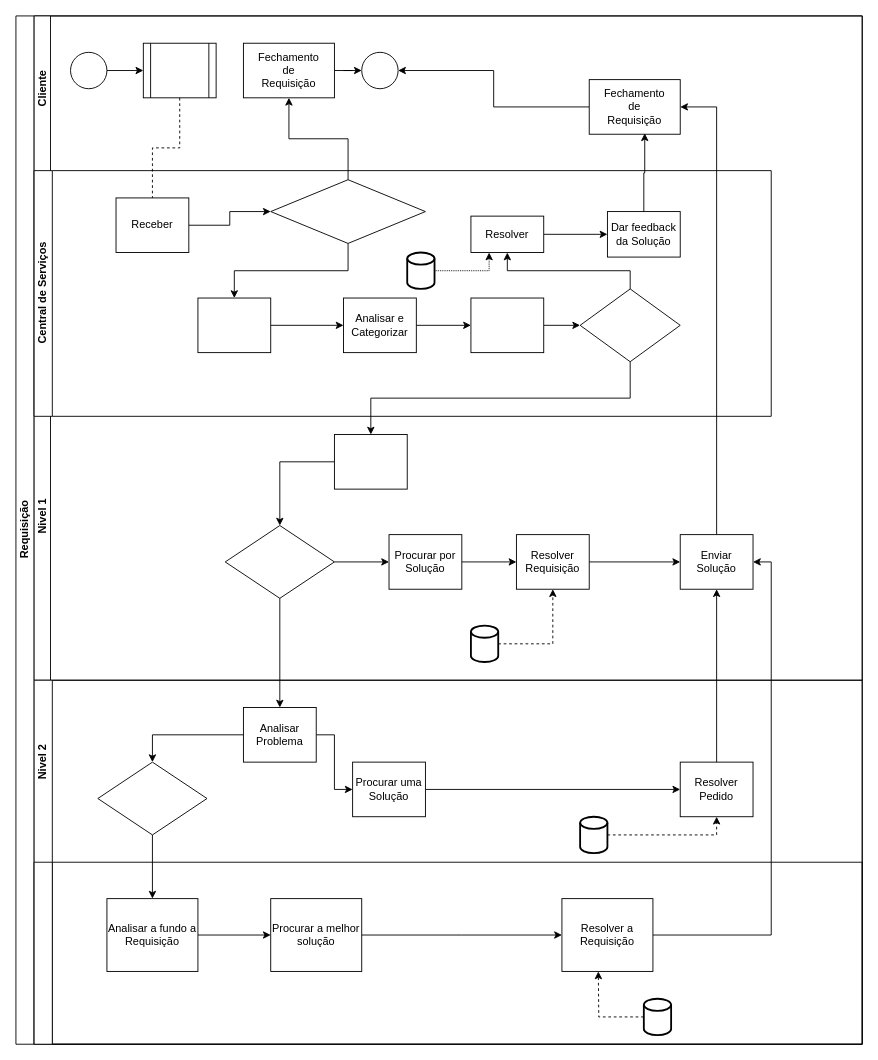
Image size: 878x1060. Some labels were removed from this diagram. The shapes that lost their labels are listed below. From the top down, each one's centre as x and y in pixels, then its label:
point 179,70: Abir uma Requisição
point 347,211: É uma Requisição?
point 234,325: Registrar Requisição
point 507,325: Definir Prioridade
point 629,325: Consegue Resolver
point 370,461: Analisar e Diagnosticar
point 279,561: Consegue Solucionar?
point 152,798: Consegue Resolver?
point 447,952: Nivel 3
